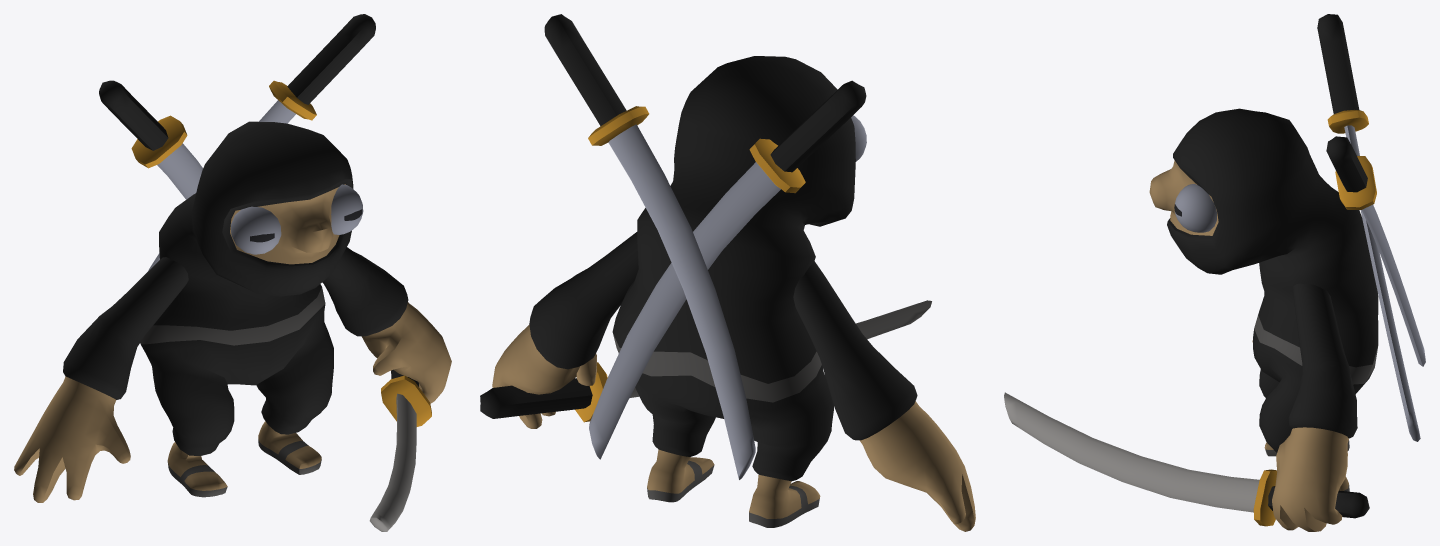
The model's file is ninja.glb.
3 renders of one model, left to right at view 1: azimuth 30°, elevation 25°; view 2: azimuth 150°, elevation 25°; view 3: azimuth 270°, elevation 25°, orthographic. The views are drawn at different scales.
Parts seen in each view (by area): view 1: Ninja; view 2: Ninja; view 3: Ninja.
Boxes of the visible parts, box(x1,y1,x2,y2) form: Ninja: box(14, 14, 451, 531); Ninja: box(480, 14, 975, 531); Ninja: box(1004, 14, 1425, 531).
Bounding box in the file's own units: 3.13 × 2.9 × 2.75.
